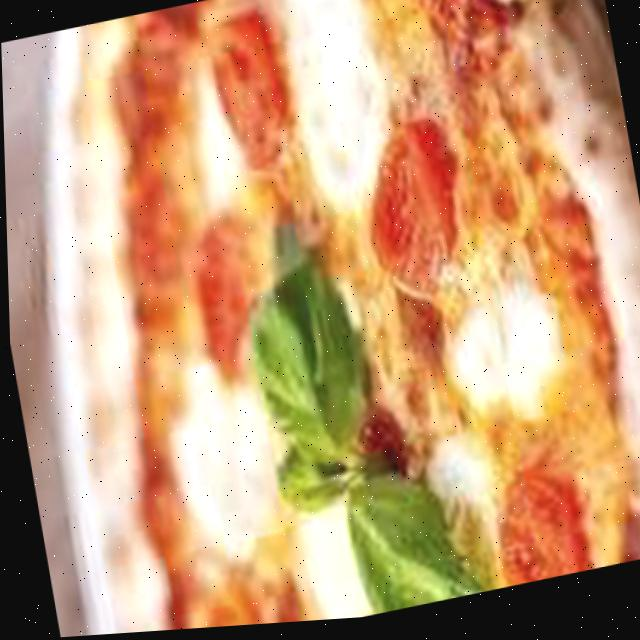basil: (232, 247, 383, 488), (336, 461, 481, 623), (262, 437, 367, 527)
pizza: (0, 0, 640, 640)
tomatoes: (347, 115, 477, 322), (181, 211, 277, 402), (198, 8, 300, 184), (476, 470, 594, 596)
